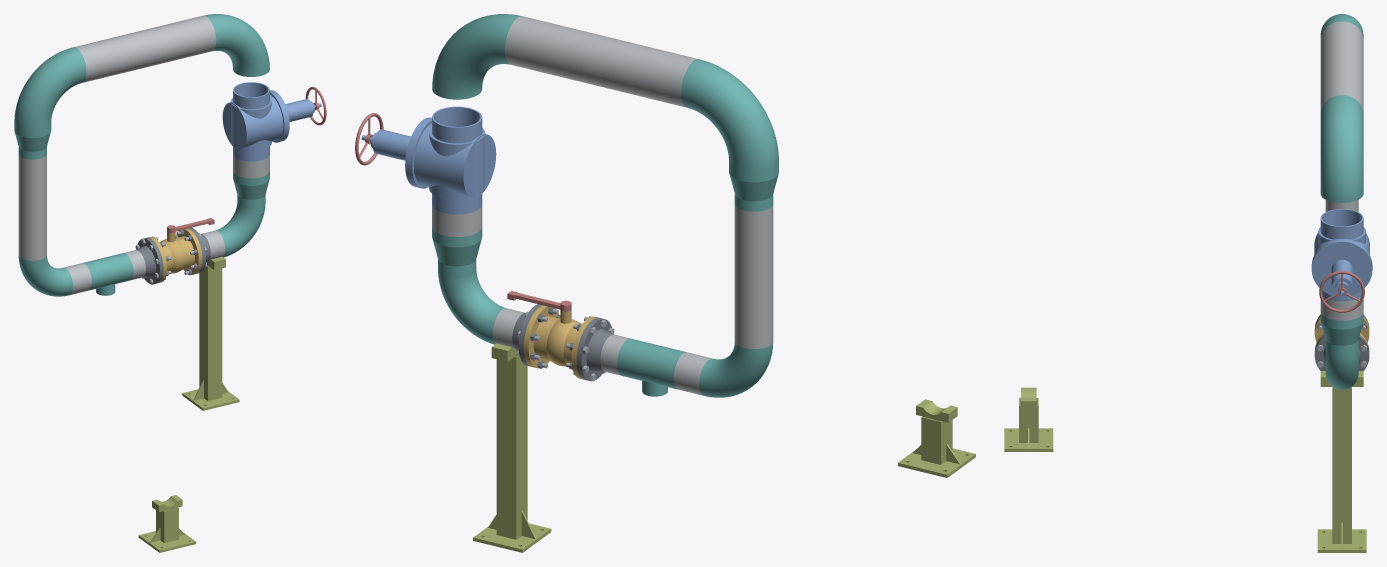
Rendered from step_77.glb.
The picture shows the model from 3 angles, left to right: view 1: azimuth 30°, elevation 25°; view 2: azimuth 150°, elevation 25°; view 3: azimuth 270°, elevation 25°; orthographic projection. The views are drawn at different scales.
Visible parts, largest first — view 1: part__8" pipe, top run, 890 long, part__pipe support SP-101, tall, part__8" gate valve body GV-101, part__8" elbow top left, part__6" pipe, left riser, 664 long, part__8" elbow top right, part__pipe support SP-101, short, part__6" ball valve body BV-101, part__6" elbow bottom left, part__6" x 4" reducing tee, part__6" elbow bottom right, part__reducer left riser (+7 smaller); view 2: part__8" pipe, top run, 890 long, part__8" gate valve body GV-101, part__pipe support SP-101, tall, part__8" elbow top left, part__6" pipe, left riser, 664 long, part__8" elbow top right, part__pipe support SP-101, short, part__6" ball valve body BV-101, part__6" elbow bottom left, part__6" elbow bottom right, part__6" x 4" reducing tee, part__reducer right leg (+6 smaller); view 3: part__8" elbow top right, part__pipe support SP-101, tall, part__8" pipe, top run, 890 long, part__8" gate valve bonnet and stem, part__pipe support SP-101, short, part__8" gate valve body GV-101, part__reducer right leg, part__6" elbow bottom right, part__8" pipe, right leg below the gate valve, 109 long, part__8" gate valve handwheel, part__6" flange, ball valve outlet.
Part boxes in pixels (x1,y1,x2,y2): part__8" pipe, top run, 890 long: (74,15,216,82); part__pipe support SP-101, tall: (182,256,239,410); part__8" gate valve body GV-101: (222,82,287,161); part__8" elbow top left: (14,47,86,130); part__6" pipe, left riser, 664 long: (18,154,46,260); part__8" elbow top right: (204,14,269,76); part__pipe support SP-101, short: (138,495,196,552); part__6" ball valve body BV-101: (148,228,202,282); part__6" elbow bottom left: (18,256,73,296); part__6" x 4" reducing tee: (82,253,133,295); part__6" elbow bottom right: (216,202,265,257); part__reducer left riser: (14,123,51,159); part__8" pipe, top run, 890 long: (505,16,698,107); part__8" gate valve body GV-101: (408,106,496,214); part__pipe support SP-101, tall: (473,343,551,552); part__8" elbow top left: (681,59,778,171); part__6" pipe, left riser, 664 long: (734,203,773,348); part__8" elbow top right: (432,14,521,99); part__pipe support SP-101, short: (898,399,975,477); part__6" ball valve body BV-101: (523,305,597,379); part__6" elbow bottom left: (699,341,773,397); part__6" elbow bottom right: (438,270,506,344); part__6" x 4" reducing tee: (617,338,686,396); part__reducer right leg: (432,227,482,276); part__8" elbow top right: (1320,95,1363,202); part__pipe support SP-101, tall: (1317,371,1366,552); part__8" pipe, top run, 890 long: (1320,21,1363,112); part__8" gate valve bonnet and stem: (1311,240,1372,297); part__pipe support SP-101, short: (1004,387,1053,451); part__8" gate valve body GV-101: (1311,209,1372,301); part__reducer right leg: (1320,312,1363,354); part__6" elbow bottom right: (1325,348,1358,389); part__8" pipe, right leg below the gate valve, 109 long: (1320,296,1363,320); part__8" gate valve handwheel: (1319,271,1364,312); part__6" flange, ball valve outlet: (1314,335,1369,370).
Bounding box in the file's own units: 2102 × 2510 × 1881.
